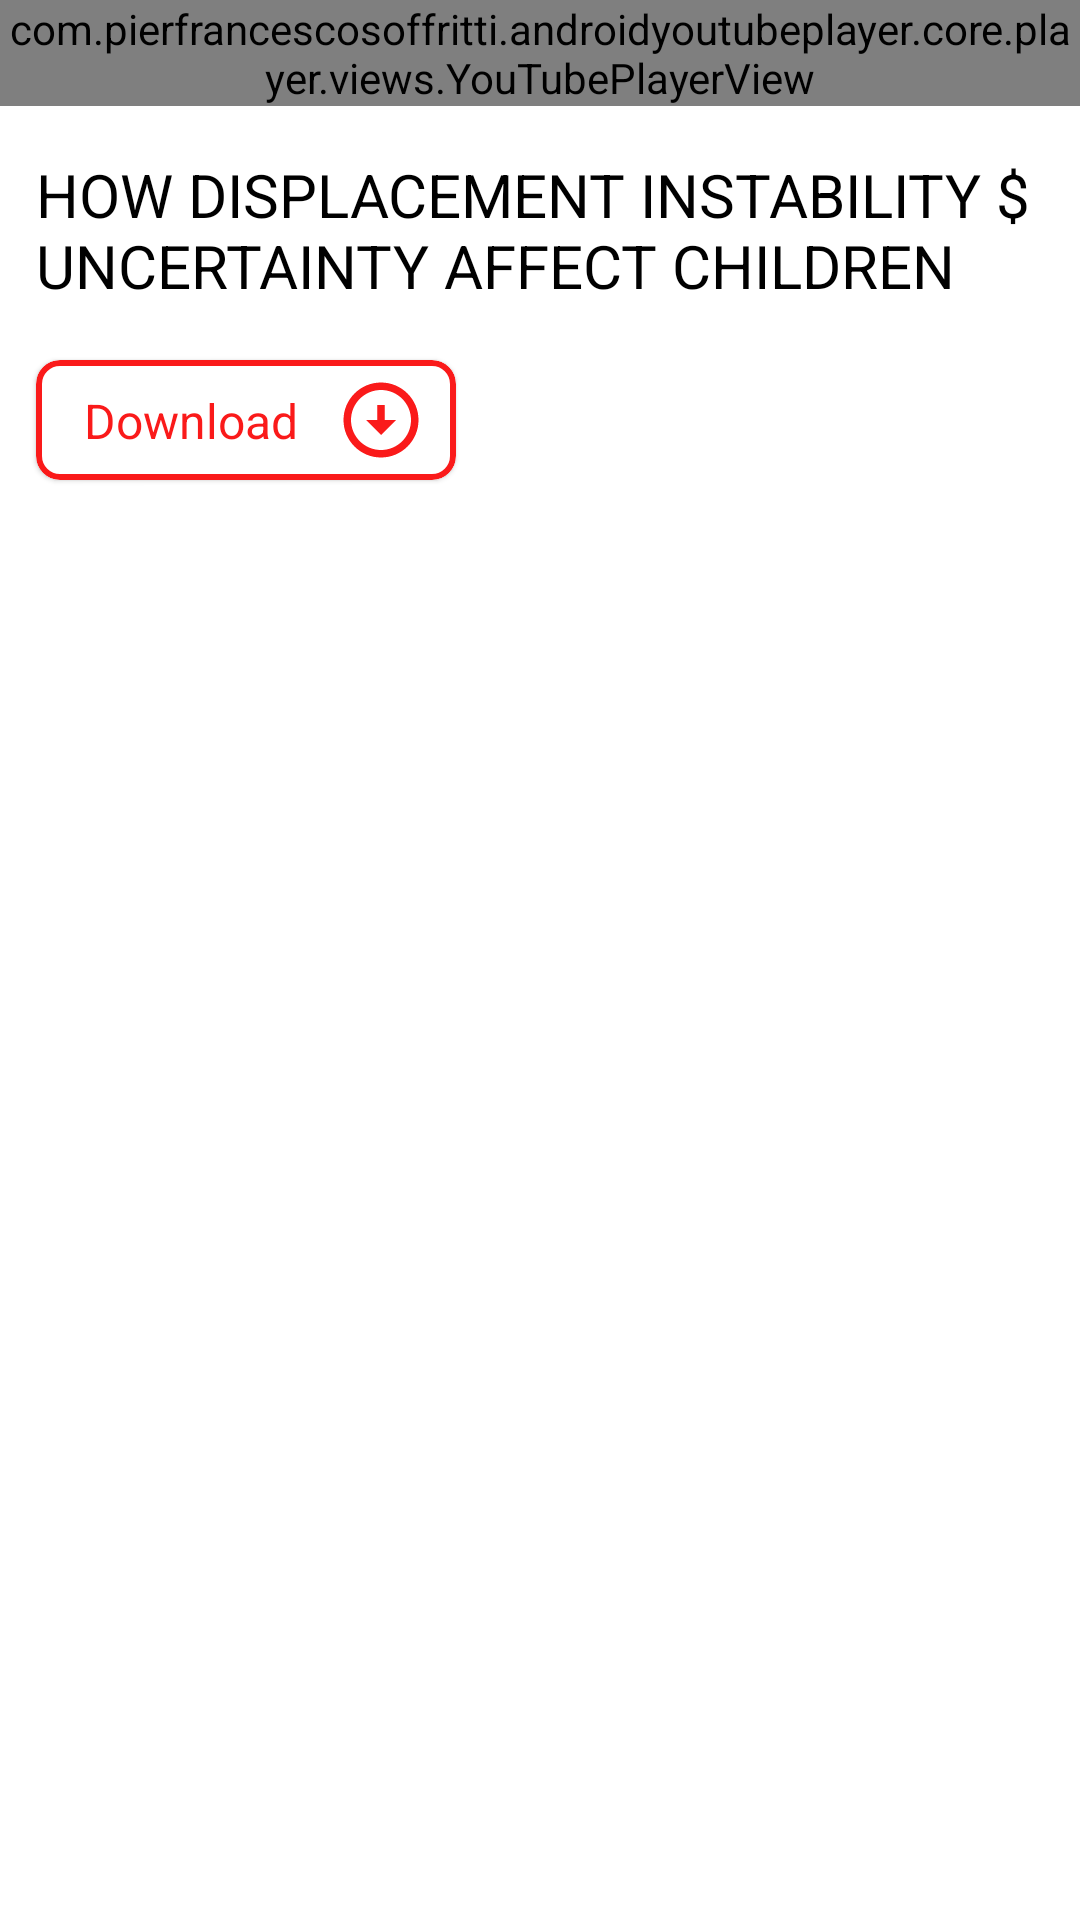

Named icons in this screenshot (1080 × 1920) and their centers, (x,y):
arrow circle down: (381,420)
